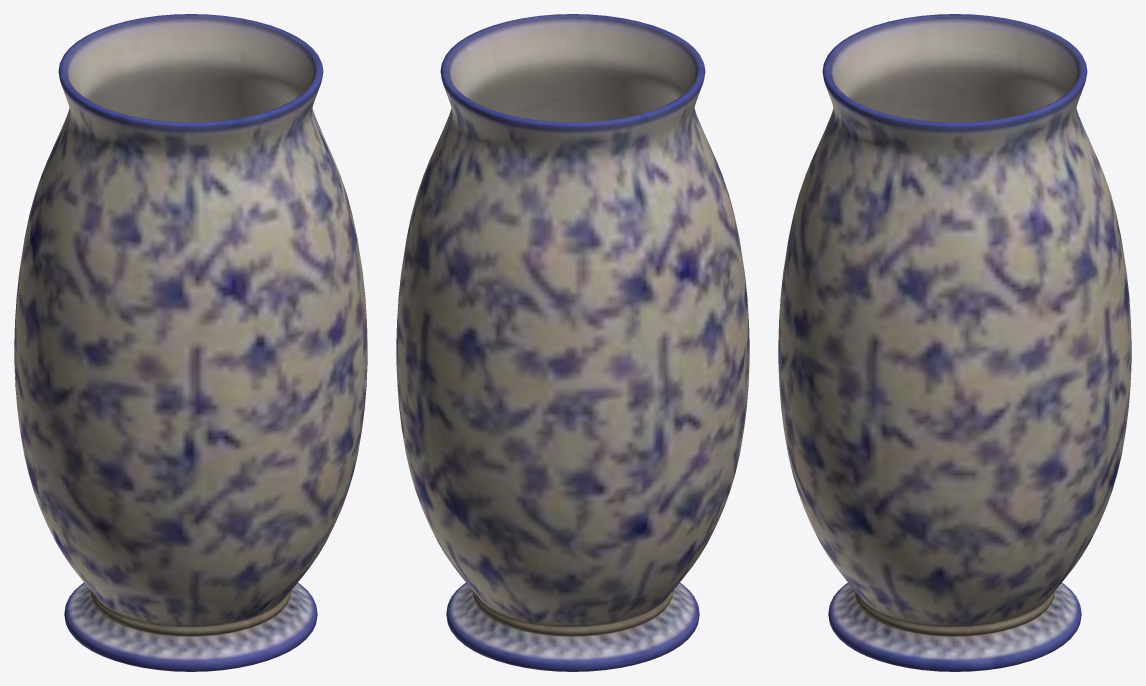
The model's file is chinavase.glb.
3 renders of one model, left to right at view 1: azimuth 30°, elevation 25°; view 2: azimuth 150°, elevation 25°; view 3: azimuth 270°, elevation 25°, orthographic.
Parts seen in each view (by area): view 1: antique_ceramic_vase_01; view 2: antique_ceramic_vase_01; view 3: antique_ceramic_vase_01.
Part boxes in pixels (x1=…): antique_ceramic_vase_01: x1=14, y1=14, x2=367, y2=671; antique_ceramic_vase_01: x1=396, y1=14, x2=749, y2=671; antique_ceramic_vase_01: x1=778, y1=14, x2=1131, y2=671.
Bounding box in the file's own units: 0.255 × 0.4396 × 0.255.
1 material, 1 textured.
